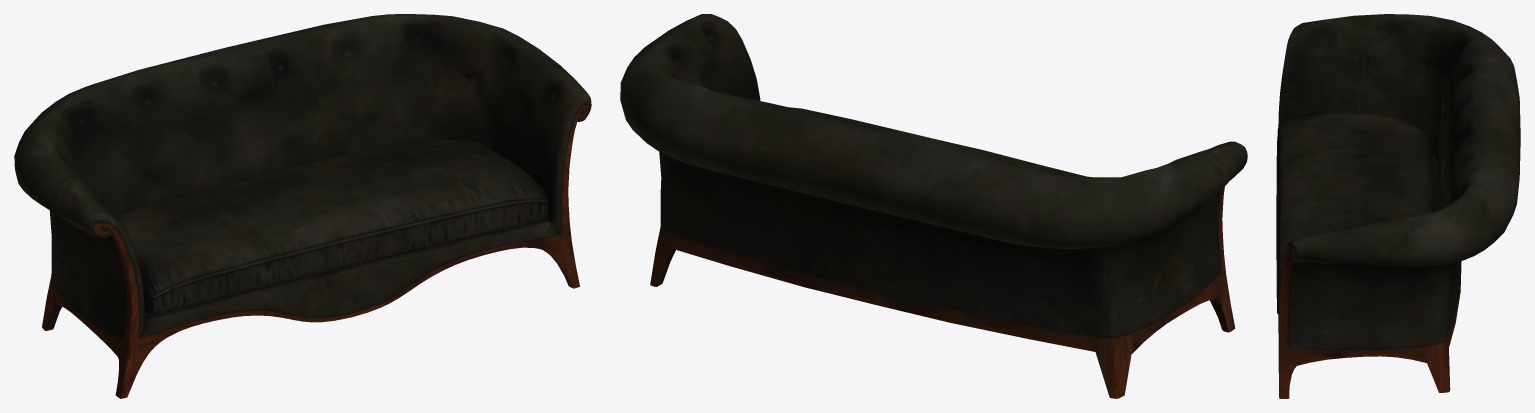
The model's file is sofa_02_2k.glb.
3 views of the same model, side by side, from view 1: azimuth 30°, elevation 25°; view 2: azimuth 150°, elevation 25°; view 3: azimuth 270°, elevation 25° (orthographic). The views are drawn at different scales.
Visible parts, largest first — view 1: sofa_02_Base; view 2: sofa_02_Base; view 3: sofa_02_Base.
Boxes of the visible parts, box(x1,y1,x2,y2) form: sofa_02_Base: box(14, 14, 591, 398); sofa_02_Base: box(620, 14, 1247, 398); sofa_02_Base: box(1276, 14, 1520, 398).
Size of the model in its own units: 1.81 by 0.7095 by 0.8177.
Materials: 1 (1 with a texture image).
